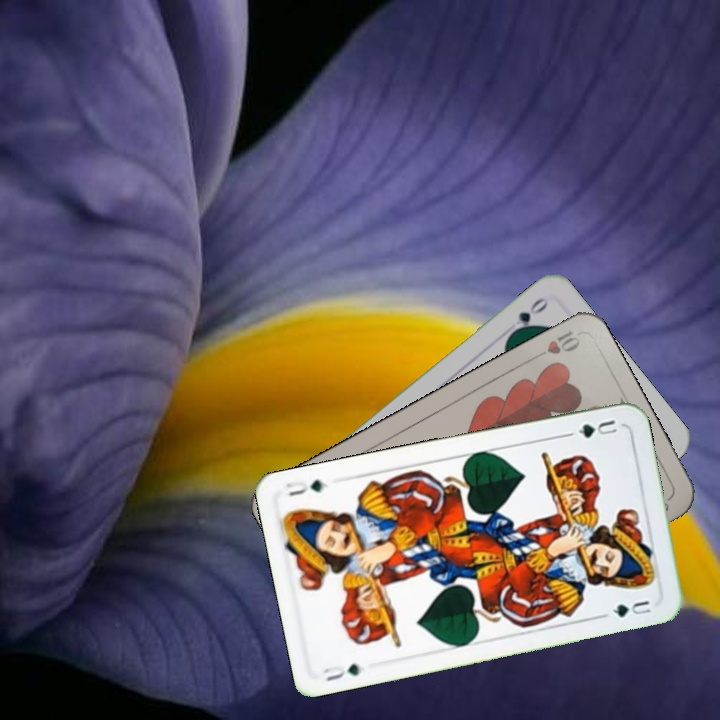GO: (505, 293, 551, 339)
GU: (564, 415, 620, 441), (319, 659, 364, 684)
H10: (527, 326, 583, 363)
